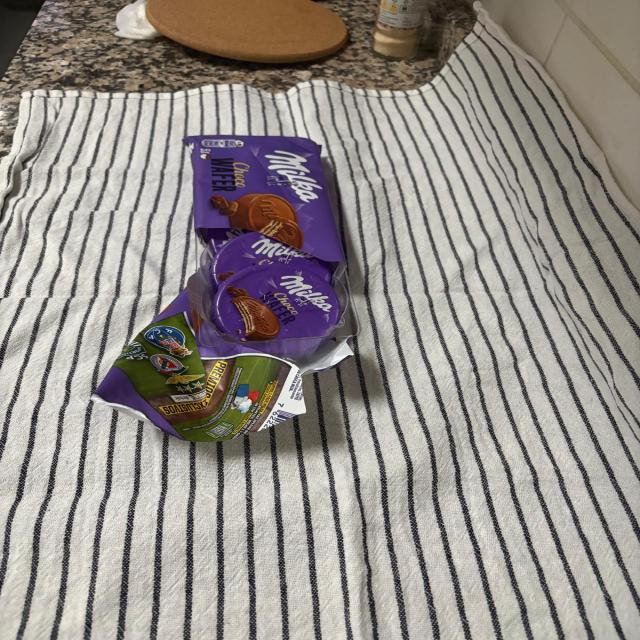damaged_package: (94, 136, 360, 444)
